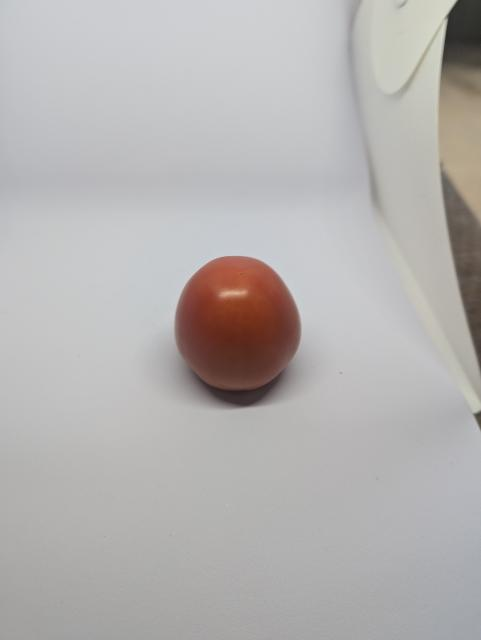red: (149, 242, 326, 409)
